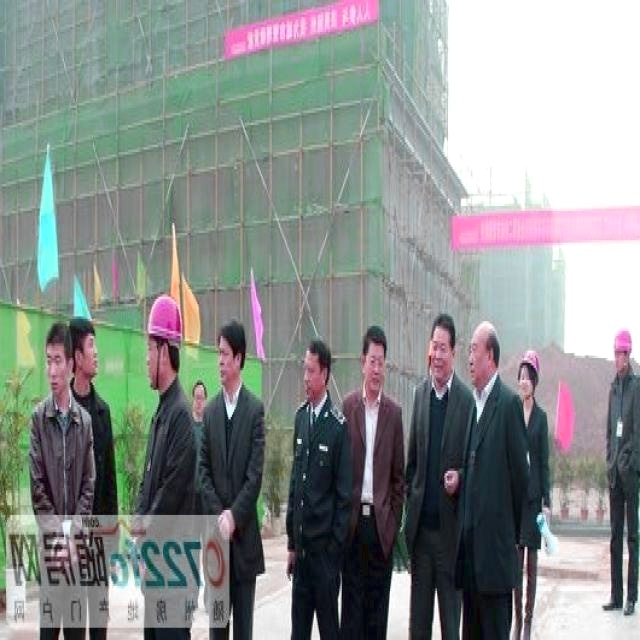Con_Casco: (149, 296, 183, 392)
Sin_Casco_Mascarrilla: (217, 313, 247, 390), (468, 322, 500, 387), (430, 312, 457, 382)
Sin_Chaleco: (288, 402, 347, 561), (343, 390, 401, 540)
